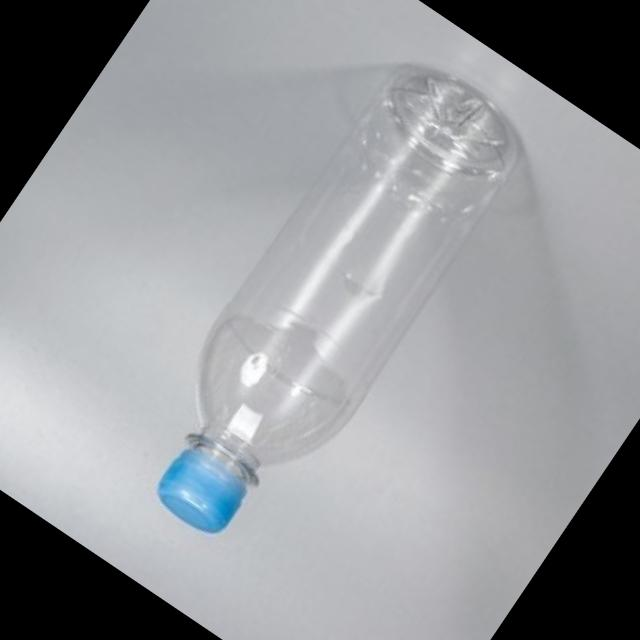BotolPlastik: (109, 41, 543, 570)
